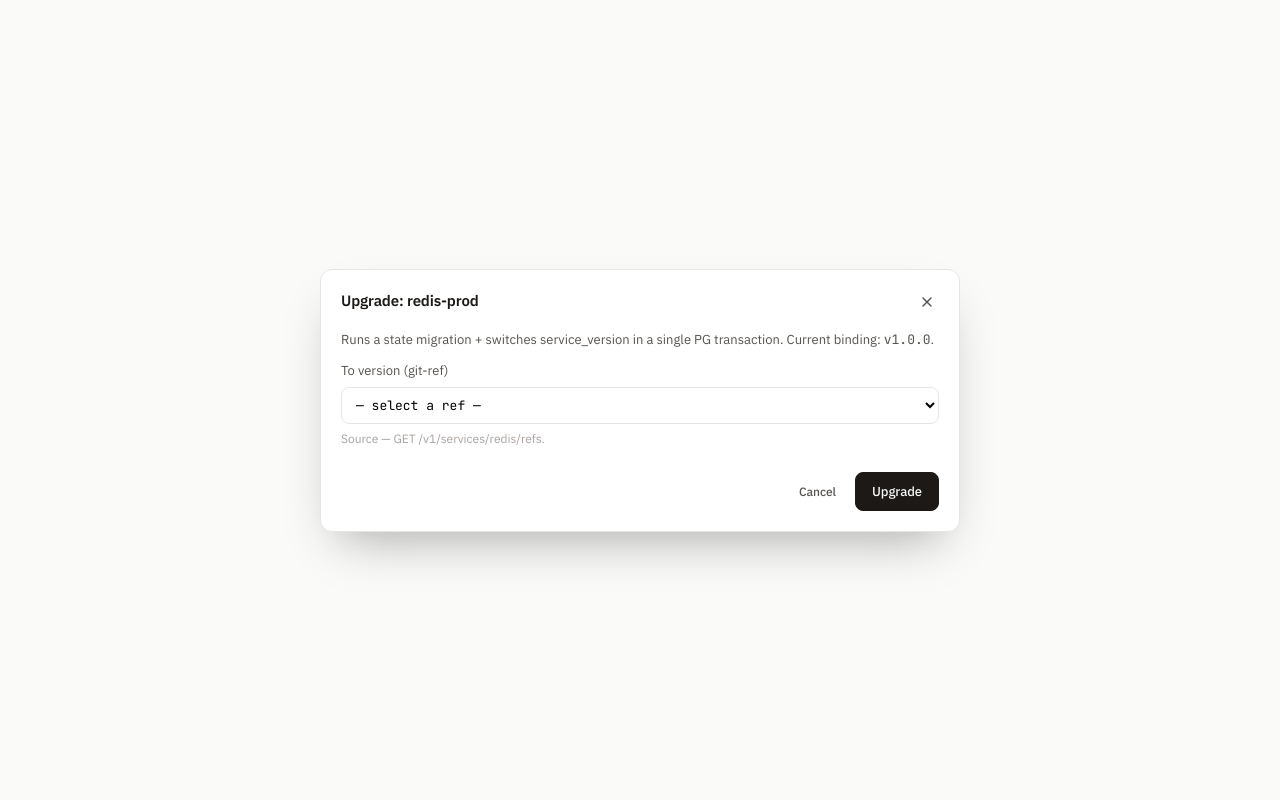
Test: UpgradeModal — «Track run» (NIM-34) › success without run_apply_id (migration without host-Run) → Close only
Select "v2.0.0" in the dropdown: (640, 405) [341,386,939,424]
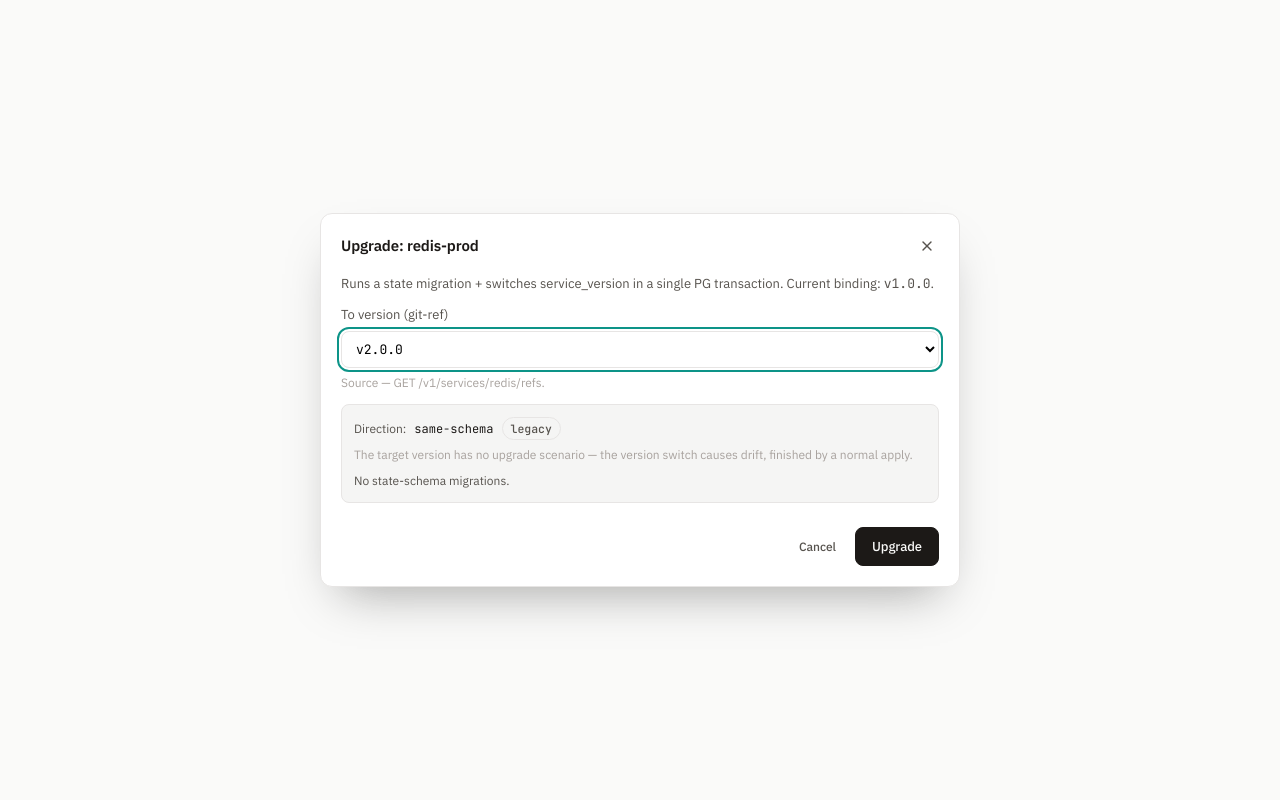
Click the button with test id "upgrade-submit": (897, 547) [855,527,939,566]
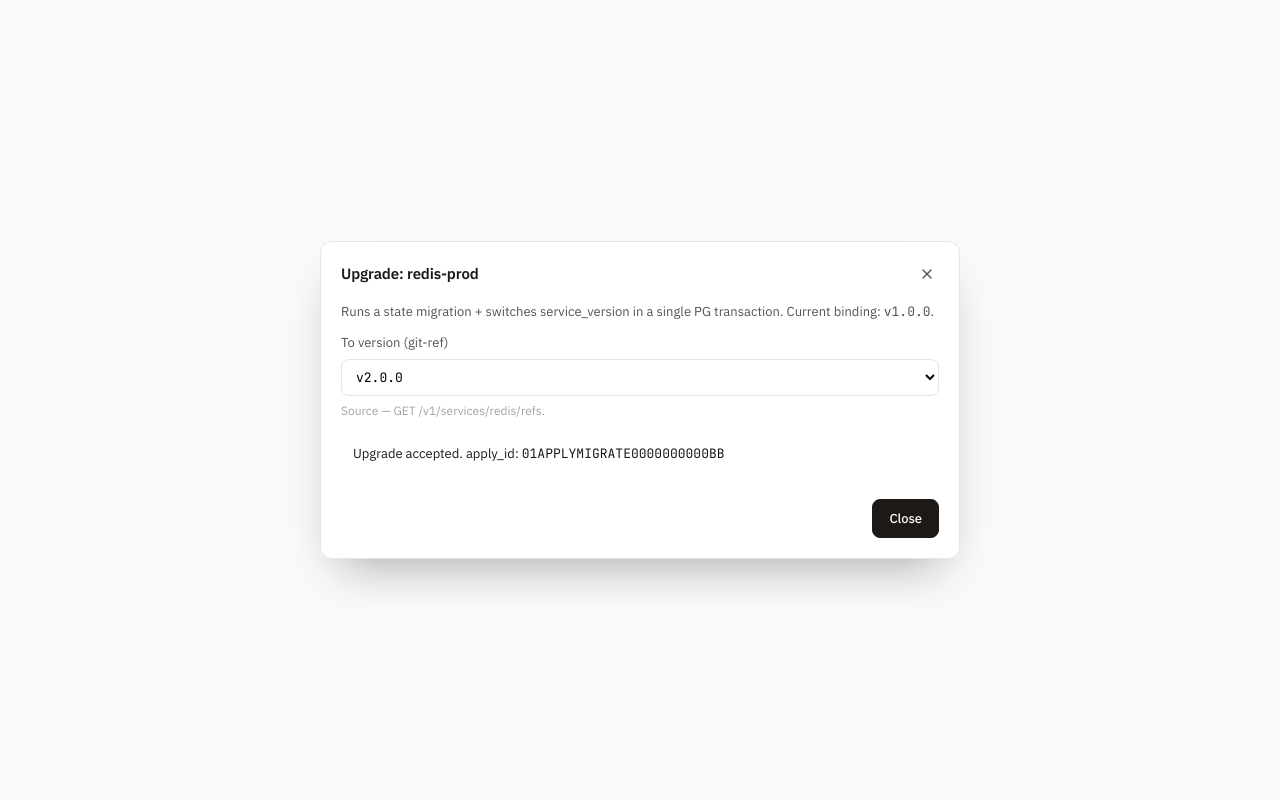
Check: the button with test id "upgrade-close" is shown, box [872,499,939,538]
